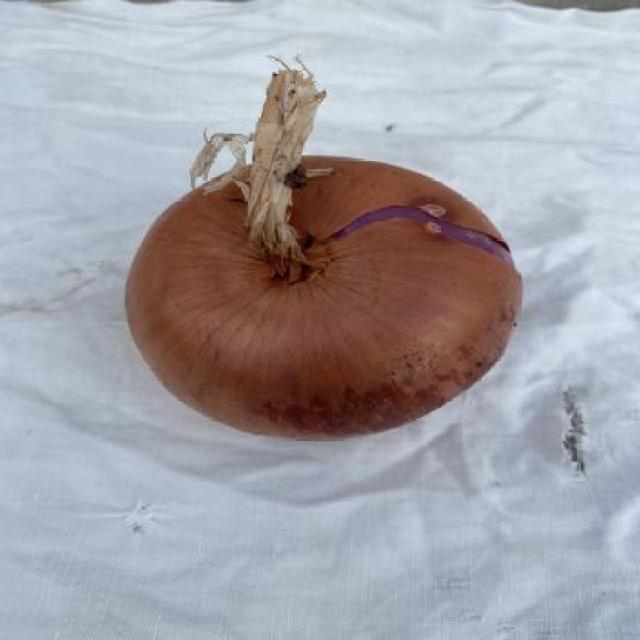Onion: (126, 58, 523, 438)
